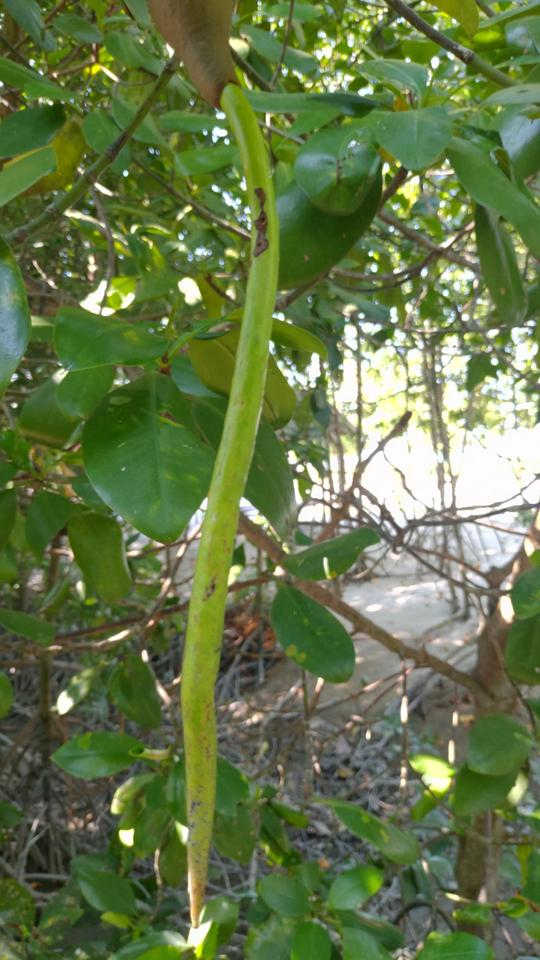mentah: (133, 1, 290, 944)
